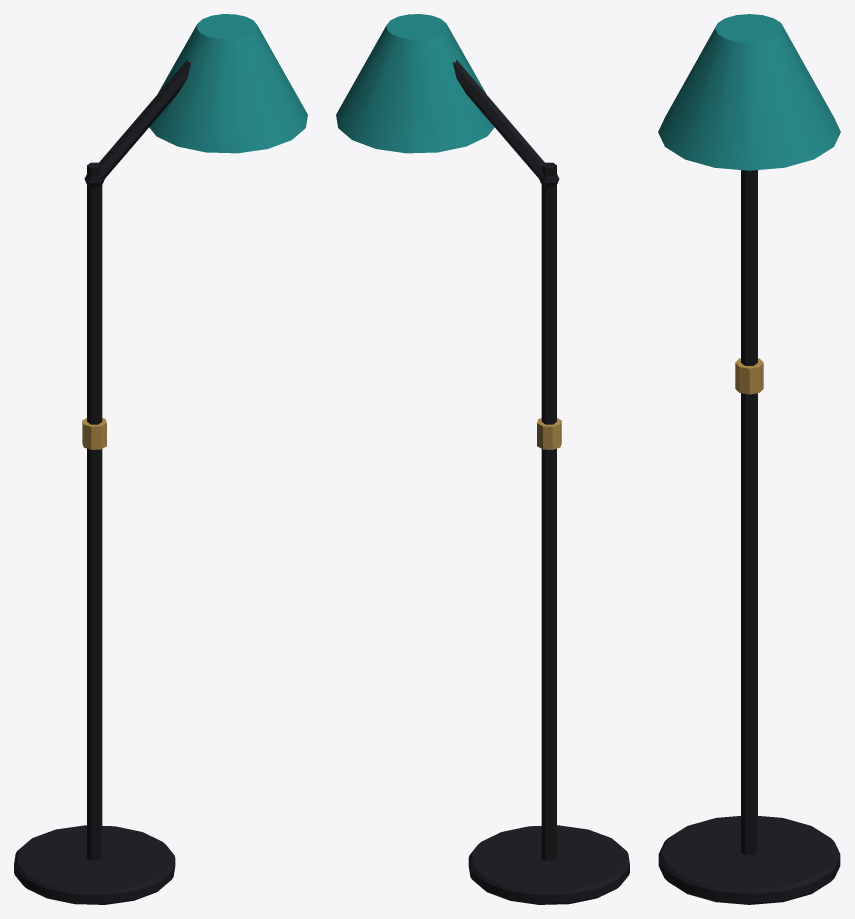
File: lamp_floor_lamp.glb
3 views of the same model, side by side, from view 1: azimuth 30°, elevation 25°; view 2: azimuth 150°, elevation 25°; view 3: azimuth 270°, elevation 25° (orthographic). The views are drawn at different scales.
Parts seen in each view (by area): view 1: lamp_floor_lamp; view 2: lamp_floor_lamp; view 3: lamp_floor_lamp.
Part boxes in pixels (<box>): lamp_floor_lamp: <box>14,14,307,904</box>; lamp_floor_lamp: <box>336,14,629,904</box>; lamp_floor_lamp: <box>658,14,840,904</box>.
Size of the model in its own units: 0.6188 by 1.76 by 0.32.
